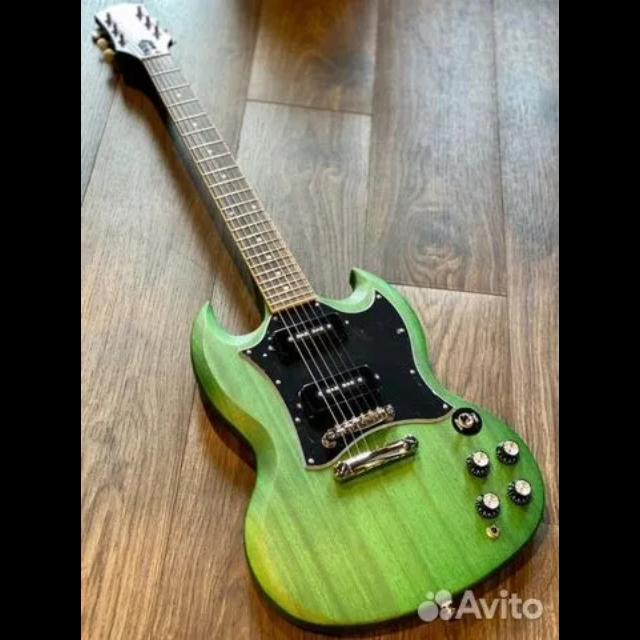Electric-Guitar: (94, 2, 546, 628)
